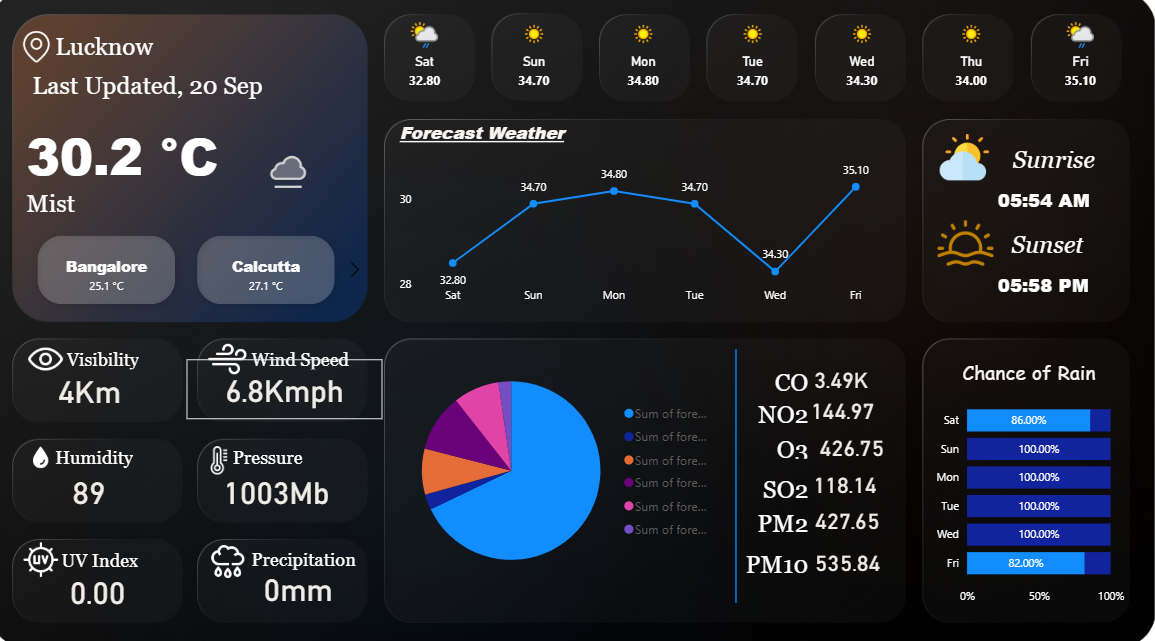

The dashboard page shown, as its layout file describes it:
{"tool":"powerbi","page":{"name":"Page 1","canvas":[1280,720],"ordinal":0},"visuals":[{"type":"advancedSlicerVisual","fields":{"Values":["location.location.name"]},"box":[16.5,249.7,400.7,109.8],"z":0},{"type":"card","fields":{"Values":["Sum(forecast_day.forecast.forecastday.day.air_quality.co)"]},"box":[878.4,388.6,114.9,72.3],"z":0,"group":"g1"},{"type":"shape","box":[827.1,612,72,25.8],"z":0,"group":"g2"},{"type":"shape","box":[41.2,140,220.9,71.4],"z":1000},{"type":"shape","box":[827.1,411.7,72,25.8],"z":1000,"group":"g1"},{"type":"shape","box":[827.1,448,72,25.8],"z":1000,"group":"g2"},{"type":"shape","box":[41.2,211.3,349.9,38.4],"z":2000},{"type":"shape","box":[827.1,566.8,72,25.8],"z":2000,"group":"g2"},{"type":"shape","box":[72.7,37,144.1,43.9],"z":3000},{"type":"shape","box":[827.1,530.6,72,25.8],"z":3000,"group":"g2"},{"type":"shape","box":[41.2,81,259.3,41.2],"z":4000},{"type":"shape","box":[827.1,485.4,72,25.8],"z":4000,"group":"g2"},{"type":"image","box":[6.9,37,90.6,43.9],"z":5000},{"type":"card","fields":{"Values":["Sum(forecast_day.forecast.forecastday.day.air_quality.pm10)"]},"box":[885.2,588.7,114.9,72.3],"z":5000,"group":"g2"},{"type":"cardVisual","fields":{"Data":["Min(current_data.current.condition.icon)"]},"box":[277.2,138.6,104.3,111.1],"z":6000},{"type":"card","fields":{"Values":["Sum(forecast_day.forecast.forecastday.day.air_quality.no2)"]},"box":[879.3,423.5,114.9,72.3],"z":6000,"group":"g2"},{"type":"image","box":[16.5,374.6,91.9,54.9],"z":7000},{"type":"card","fields":{"Values":["Sum(forecast_day.forecast.forecastday.day.air_quality.so2)"]},"box":[881.7,516.4,114.9,47.8],"z":7000,"group":"g2"},{"type":"shape","box":[79.6,388.3,85.1,27.4],"z":8000},{"type":"card","fields":{"Values":["Sum(forecast_day.forecast.forecastday.day.air_quality.pm2_5)"]},"box":[885.2,543.5,114.9,72.3],"z":8000,"group":"g2"},{"type":"image","box":[207.2,374.6,108.4,54.9],"z":9000},{"type":"group","id":"g1","title":"Group 1","box":[827.1,388.6,166,72.3],"z":9000,"group":"g2"},{"type":"shape","box":[288.2,388.3,111.1,27.4],"z":10000},{"type":"shape","box":[72.7,496.7,98.8,27.4],"z":11000},{"type":"image","box":[27.4,492.6,59,34.3],"z":12000},{"type":"image","box":[216.8,492.6,71.4,41.2],"z":13000},{"type":"shape","box":[267.6,496.7,94.7,27.4],"z":14000},{"type":"image","box":[11,596.9,91.9,50.8],"z":15000},{"type":"shape","box":[79.6,609.3,85.1,27.4],"z":16000},{"type":"image","box":[208.6,596.9,107,54.9],"z":17000},{"type":"shape","box":[288.2,609.3,129,26.1],"z":18000},{"type":"card","fields":{"Values":["_Measures.visibility"]},"box":[45.3,407.5,130.4,56.3],"z":19000},{"type":"card","fields":{"Values":["_Measures.Measure"]},"box":[216.8,402.1,215.4,65.9],"z":20000},{"type":"card","fields":{"Values":["_Measures.Pressure"]},"box":[245.6,518.7,140,54.9],"z":21000},{"type":"card","fields":{"Values":["Sum(current_data.current.humidity)"]},"box":[74.1,513.2,71.4,65.9],"z":22000},{"type":"card","fields":{"Values":["Sum(current_data.current.uv)"]},"box":[63.1,623,112.5,65.9],"z":23000},{"type":"card","fields":{"Values":["_Measures.Precipitation"]},"box":[262.1,624.4,155.1,56.3],"z":24000},{"type":"advancedSlicerVisual","fields":{"Values":["forecast_day.day_name"]},"box":[417.2,20.6,845.3,101.5],"z":25000},{"type":"lineChart","title":"Forecast Weather","fields":{"Y":["Sum(forecast_day.forecast.forecastday.day.avgtemp_c)"],"Category":["forecast_day.day_name"]},"box":[446,140,546.1,209.9],"z":26000},{"type":"shape","box":[1123.8,167.4,109.8,27.4],"z":27000},{"type":"shape","box":[1122.5,260.7,111.1,27.4],"z":28000},{"type":"image","box":[981.1,238.8,181.1,71.4],"z":29000},{"type":"image","box":[990.7,148.2,160.5,64.5],"z":30000},{"type":"shape","box":[1107.4,205.8,113.9,43.9],"z":31000},{"type":"shape","box":[1107.4,289.5,113.9,60.4],"z":32000},{"type":"hundredPercentStackedBarChart","title":"Chance of Rain","fields":{"Y":["Sum(forecast_day.forecast.forecastday.day.daily_chance_of_rain)","_Measures.left_value"],"Category":["forecast_day.day_name"]},"box":[1031.9,402.1,219.6,278.6],"z":33000},{"type":"card","fields":{"Values":["Sum(forecast_day.forecast.forecastday.day.air_quality.o3)"]},"box":[883.7,472,127.6,54.9],"z":34000},{"type":"shape","box":[800,391.4,40,278.6],"z":35000},{"type":"pieChart","fields":{"Y":["Sum(forecast_day.forecast.forecastday.day.air_quality.co)","Sum(forecast_day.forecast.forecastday.day.air_quality.no2)","Sum(forecast_day.forecast.forecastday.day.air_quality.o3)","Sum(forecast_day.forecast.forecastday.day.air_quality.pm10)","Sum(forecast_day.forecast.forecastday.day.air_quality.pm2_5)","Sum(forecast_day.forecast.forecastday.day.air_quality.so2)"]},"box":[445.7,394.3,360,261.4],"z":36000},{"type":"group","id":"g2","title":"Group 2","box":[827.1,388.6,172.9,272.9],"z":37000}]}

Visuals, with their boxes in screenshot pixels (x1, y1, x2, y2), scaled from the page's 1280x720 canvas onto the 1155x641 screenshot:
advancedSlicerVisual - location.location.name: Rect(15, 222, 376, 320)
card - Sum(forecast_day.forecast.forecastday.day.air_quality.co): Rect(793, 346, 896, 410)
shape: Rect(746, 545, 811, 568)
shape: Rect(37, 125, 237, 188)
shape: Rect(746, 367, 811, 389)
shape: Rect(746, 399, 811, 422)
shape: Rect(37, 188, 353, 222)
shape: Rect(746, 505, 811, 528)
shape: Rect(66, 33, 196, 72)
shape: Rect(746, 472, 811, 495)
shape: Rect(37, 72, 271, 109)
shape: Rect(746, 432, 811, 455)
image: Rect(6, 33, 88, 72)
card - Sum(forecast_day.forecast.forecastday.day.air_quality.pm10): Rect(799, 524, 902, 588)
cardVisual - Min(current_data.current.condition.icon): Rect(250, 123, 344, 222)
card - Sum(forecast_day.forecast.forecastday.day.air_quality.no2): Rect(793, 377, 897, 441)
image: Rect(15, 333, 98, 382)
card - Sum(forecast_day.forecast.forecastday.day.air_quality.so2): Rect(796, 460, 899, 502)
shape: Rect(72, 346, 149, 370)
card - Sum(forecast_day.forecast.forecastday.day.air_quality.pm2_5): Rect(799, 484, 902, 548)
image: Rect(187, 333, 285, 382)
"Group 1" group: Rect(746, 346, 896, 410)
shape: Rect(260, 346, 360, 370)
shape: Rect(66, 442, 155, 467)
image: Rect(25, 439, 78, 469)
image: Rect(196, 439, 260, 475)
shape: Rect(241, 442, 327, 467)
image: Rect(10, 531, 93, 577)
shape: Rect(72, 542, 149, 567)
image: Rect(188, 531, 285, 580)
shape: Rect(260, 542, 376, 566)
card - _Measures.visibility: Rect(41, 363, 159, 413)
card - _Measures.Measure: Rect(196, 358, 390, 417)
card - _Measures.Pressure: Rect(222, 462, 348, 511)
card - Sum(current_data.current.humidity): Rect(67, 457, 131, 516)
card - Sum(current_data.current.uv): Rect(57, 555, 158, 613)
card - _Measures.Precipitation: Rect(237, 556, 376, 606)
advancedSlicerVisual - forecast_day.day_name: Rect(376, 18, 1139, 109)
"Forecast Weather" lineChart: Rect(402, 125, 895, 312)
shape: Rect(1014, 149, 1113, 173)
shape: Rect(1013, 232, 1113, 256)
image: Rect(885, 213, 1049, 276)
image: Rect(894, 132, 1039, 189)
shape: Rect(999, 183, 1102, 222)
shape: Rect(999, 258, 1102, 312)
"Chance of Rain" hundredPercentStackedBarChart: Rect(931, 358, 1129, 606)
card - Sum(forecast_day.forecast.forecastday.day.air_quality.o3): Rect(797, 420, 913, 469)
shape: Rect(722, 348, 758, 596)
pieChart - Sum(forecast_day.forecast.forecastday.day.air_quality.co) x Sum(forecast_day.forecast.forecastday.day.air_quality.no2): Rect(402, 351, 727, 584)
"Group 2" group: Rect(746, 346, 902, 589)
